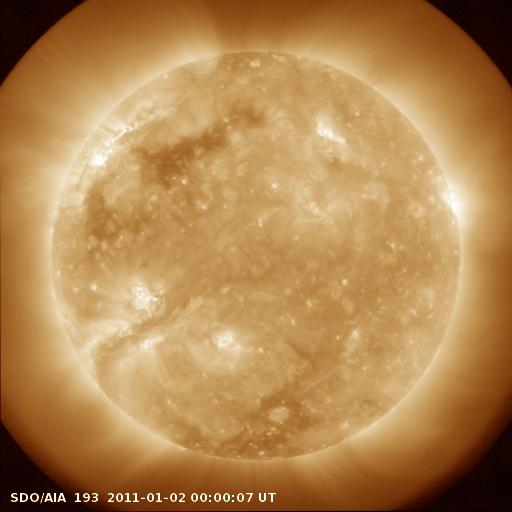coronal_hole: (186, 380, 321, 465), (143, 98, 256, 191)
